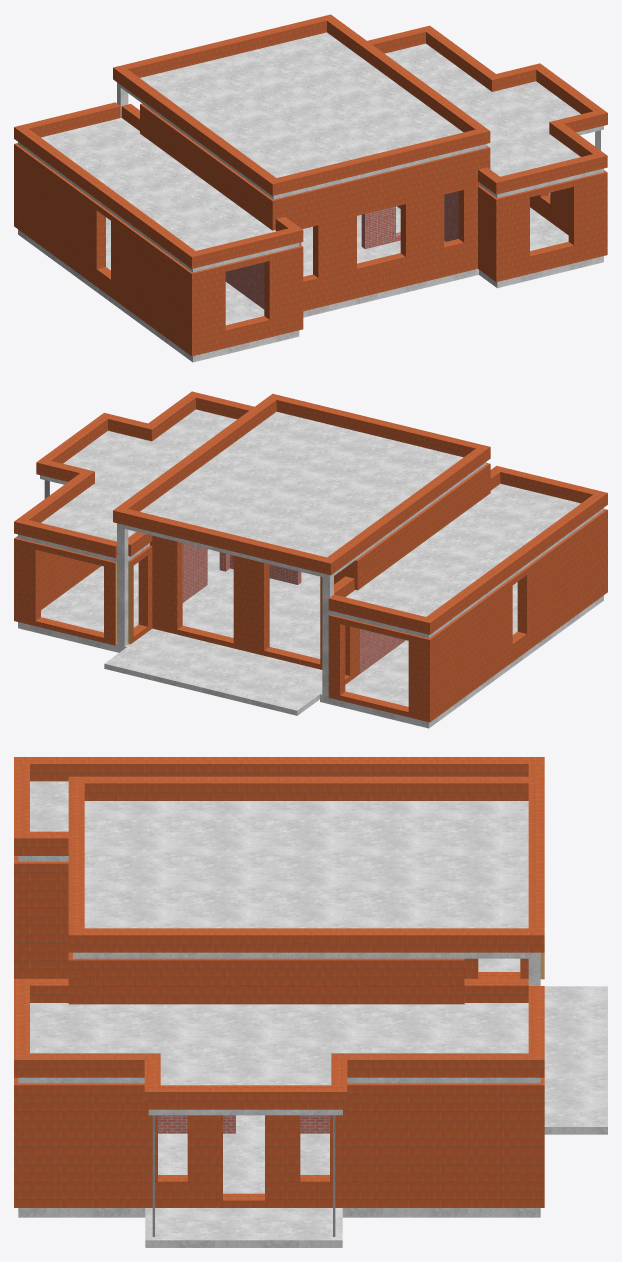
The model's file is house-box.glb.
The picture shows the model from 3 angles, top to bottom: view 1: azimuth 30°, elevation 25°; view 2: azimuth 150°, elevation 25°; view 3: azimuth 270°, elevation 25°; orthographic projection. The views are drawn at different scales.
Visible parts, largest first — view 1: [М] БЛОКИ - КЕРАМИЧЕСКИЕ, [М] ЖЕЛЕЗОБЕТОН - КОНСТРУКЦИОННЫЙ, [М] КИРПИЧ - КЛАДОЧНЫЙ; view 2: [М] ЖЕЛЕЗОБЕТОН - КОНСТРУКЦИОННЫЙ, [М] БЛОКИ - КЕРАМИЧЕСКИЕ, [М] КИРПИЧ - КЛАДОЧНЫЙ; view 3: [М] БЛОКИ - КЕРАМИЧЕСКИЕ, [М] ЖЕЛЕЗОБЕТОН - КОНСТРУКЦИОННЫЙ, [М] КИРПИЧ - КЛАДОЧНЫЙ.
Boxes of the visible parts, bbox=[...] form: [М] БЛОКИ - КЕРАМИЧЕСКИЕ: bbox=[14, 14, 607, 356]; [М] ЖЕЛЕЗОБЕТОН - КОНСТРУКЦИОННЫЙ: bbox=[18, 32, 603, 362]; [М] КИРПИЧ - КЛАДОЧНЫЙ: bbox=[225, 191, 458, 309]; [М] ЖЕЛЕЗОБЕТОН - КОНСТРУКЦИОННЫЙ: bbox=[18, 409, 603, 728]; [М] БЛОКИ - КЕРАМИЧЕСКИЕ: bbox=[14, 391, 607, 722]; [М] КИРПИЧ - КЛАДОЧНЫЙ: bbox=[182, 543, 405, 673]; [М] БЛОКИ - КЕРАМИЧЕСКИЕ: bbox=[14, 757, 544, 1207]; [М] ЖЕЛЕЗОБЕТОН - КОНСТРУКЦИОННЫЙ: bbox=[18, 781, 607, 1247]; [М] КИРПИЧ - КЛАДОЧНЫЙ: bbox=[158, 1115, 329, 1133].
Size of the model in its own units: 18.81 by 5.56 by 14.1.
6 materials, 3 textured.
